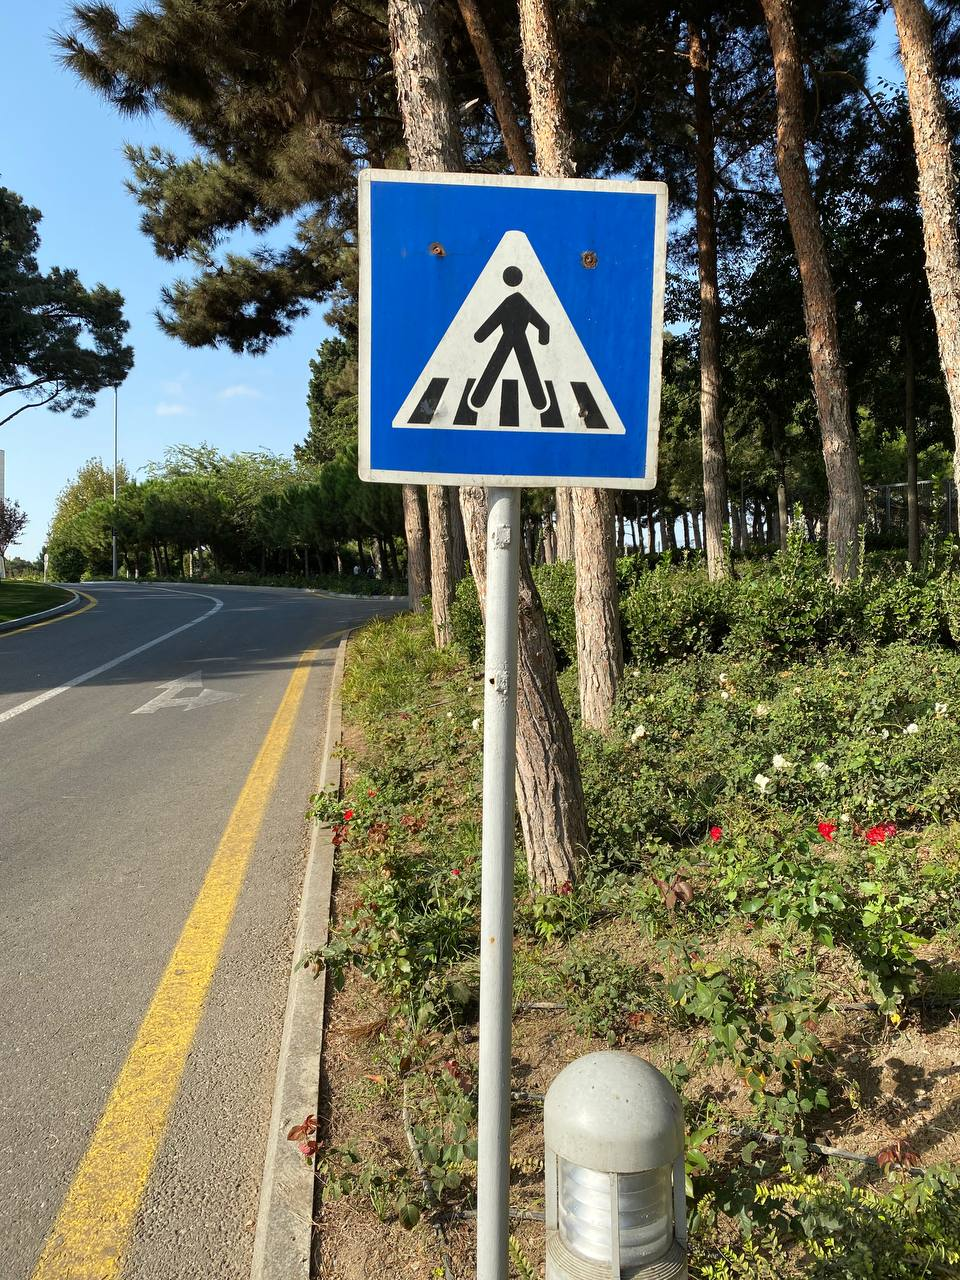Pedestrian Crossing: (354, 168, 668, 491)
